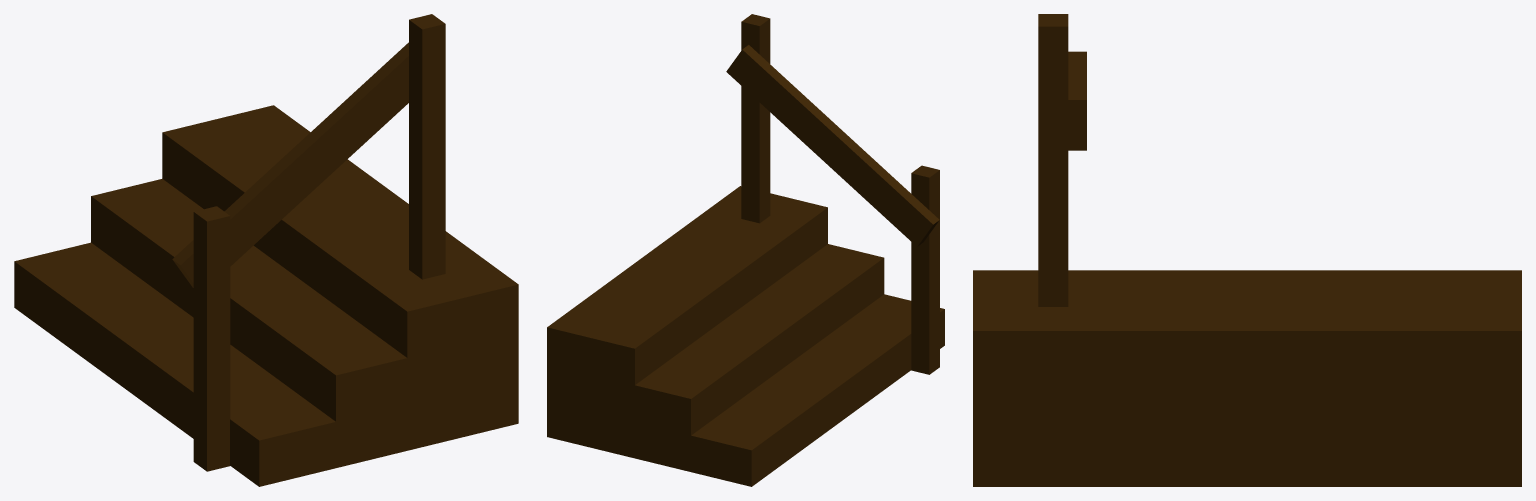
The model's file is TrailerSteps.glb.
3 views of the same model, side by side, from view 1: azimuth 30°, elevation 25°; view 2: azimuth 150°, elevation 25°; view 3: azimuth 270°, elevation 25° (orthographic). The views are drawn at different scales.
Visible parts, largest first — view 1: TrailerSteps; view 2: TrailerSteps; view 3: TrailerSteps.
Part boxes in pixels (x1,y1,x2,y2): TrailerSteps: (14,14,518,486); TrailerSteps: (547,14,944,486); TrailerSteps: (973,14,1521,486).
Size of what is drawn, in the model's own units: 1.11 by 1.4 by 1.6.
